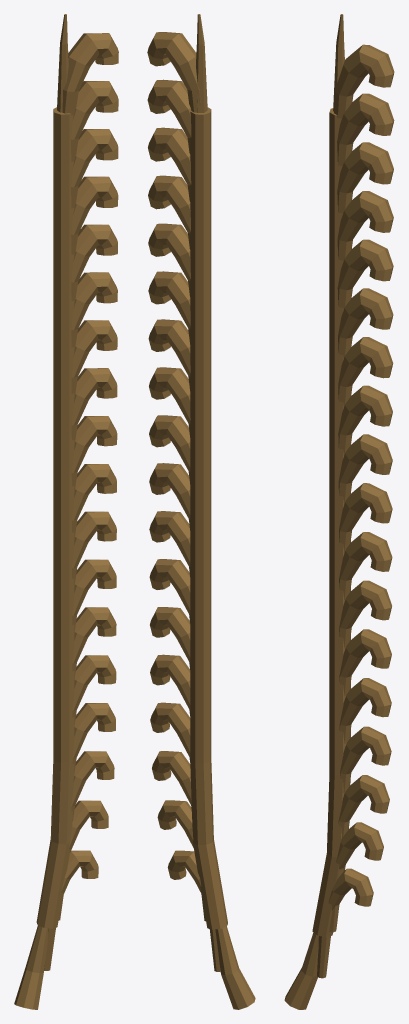
Rendered from monograptus.glb.
The picture shows the model from 3 angles, left to right: view 1: azimuth 30°, elevation 25°; view 2: azimuth 150°, elevation 25°; view 3: azimuth 330°, elevation 25°; orthographic projection.
Visible parts, largest first — view 1: monograptus-original-tubarium; view 2: monograptus-original-tubarium; view 3: monograptus-original-tubarium.
Part boxes in pixels (x1,y1,x2,y2): monograptus-original-tubarium: (14, 14, 118, 1009); monograptus-original-tubarium: (147, 14, 255, 1009); monograptus-original-tubarium: (284, 14, 394, 1009).
Size of the model in its own units: 0.00308 by 0.0279 by 0.000806.
